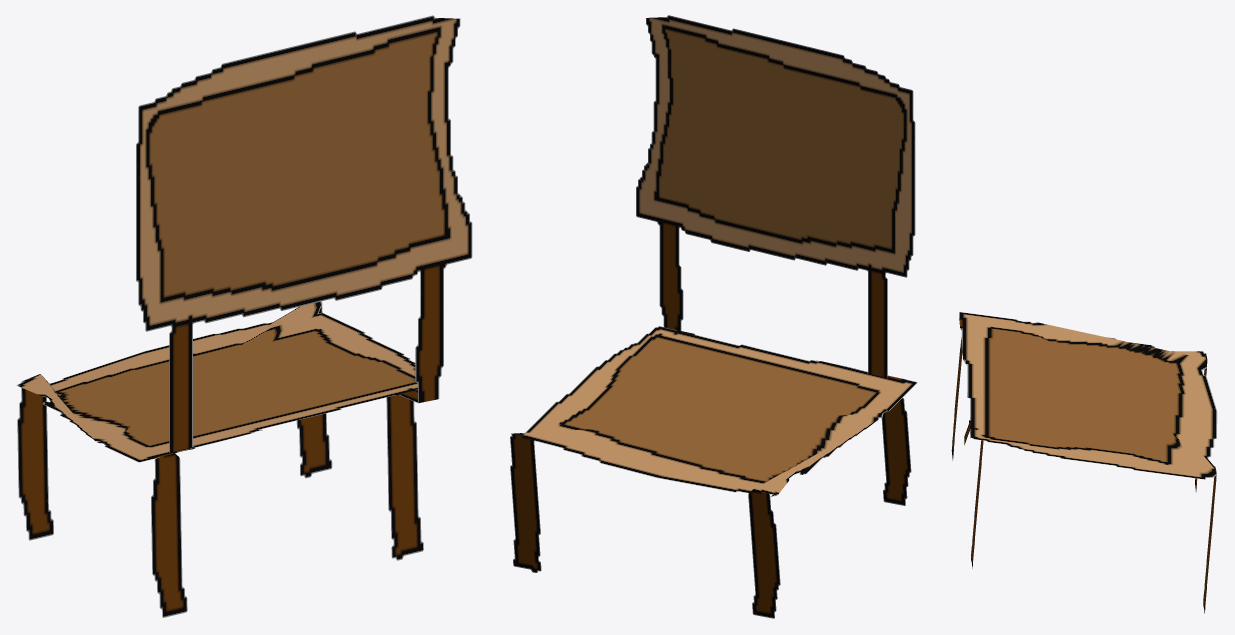
Rendered from fair 1.fbx.
3 renders of one model, left to right at view 1: azimuth 30°, elevation 25°; view 2: azimuth 150°, elevation 25°; view 3: azimuth 270°, elevation 25°, orthographic. The views are drawn at different scales.
Parts seen in each view (by area): view 1: Cube; view 2: Cube; view 3: Cube.
Part boxes in pixels (box(x1,y1,x2,y2)): Cube: box(16, 15, 472, 617); Cube: box(510, 15, 917, 618); Cube: box(951, 312, 1217, 613).
Size of the model in its own units: 113 by 179 by 89.84.
